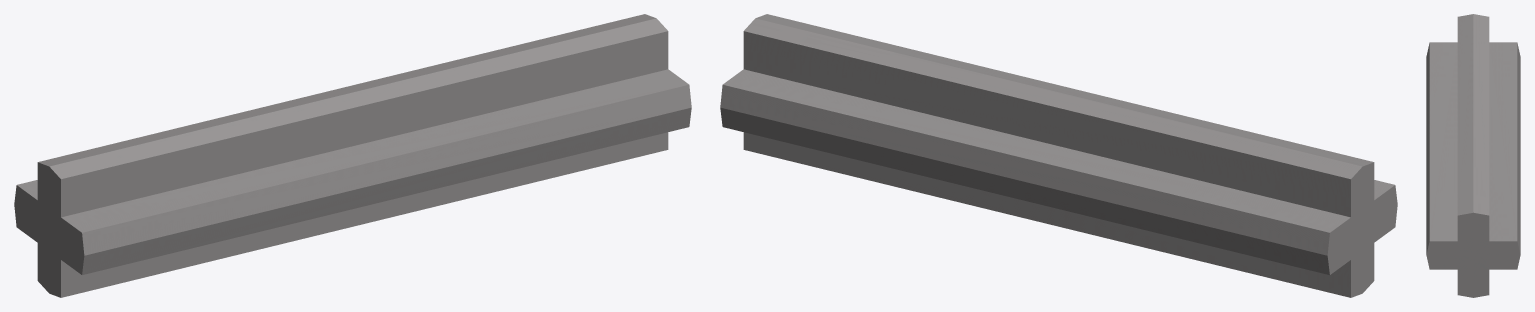
3 renders of one model, left to right at view 1: azimuth 30°, elevation 25°; view 2: azimuth 150°, elevation 25°; view 3: azimuth 270°, elevation 25°, orthographic. The views are drawn at different scales.
Parts seen in each view (by area): view 1: node; view 2: node; view 3: node.
Boxes of the visible parts, left/top/right/bottom form: node: left=14, top=14, right=691, bottom=297; node: left=720, top=14, right=1397, bottom=297; node: left=1426, top=14, right=1520, bottom=297.
Size of the model in its own units: 60 by 12 by 12.
1 material, 1 textured.
